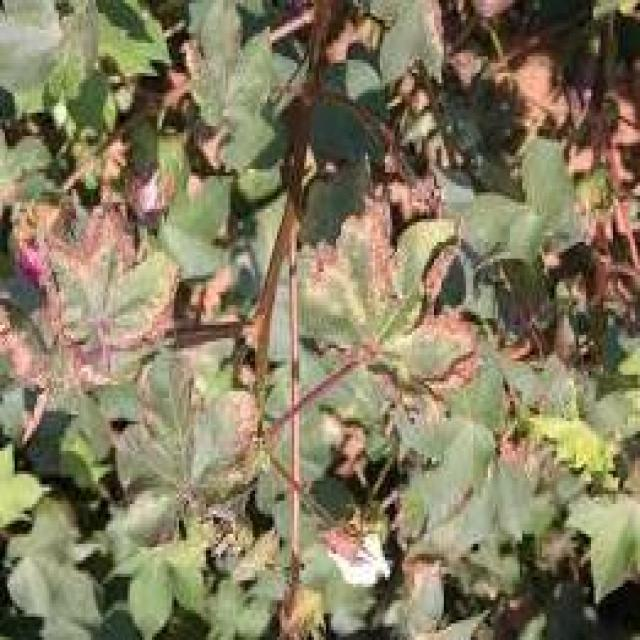Fusarium Wilt: (23, 15, 640, 586)
